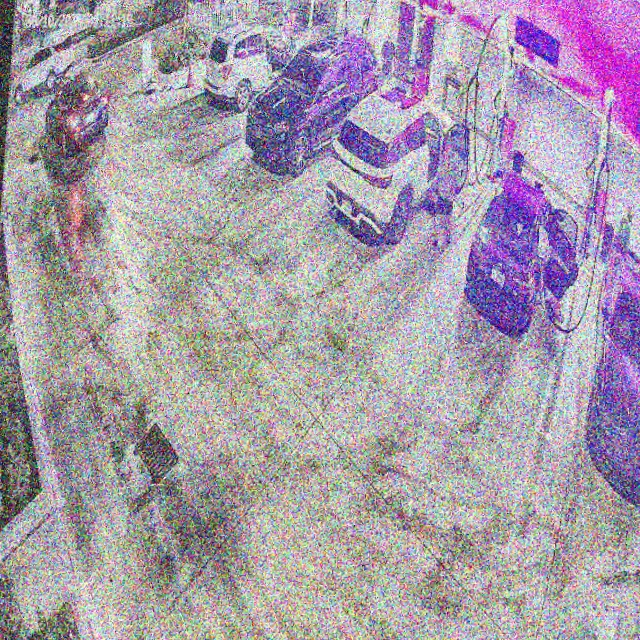Car: (327, 86, 467, 245), (465, 171, 579, 331), (246, 36, 381, 171)
